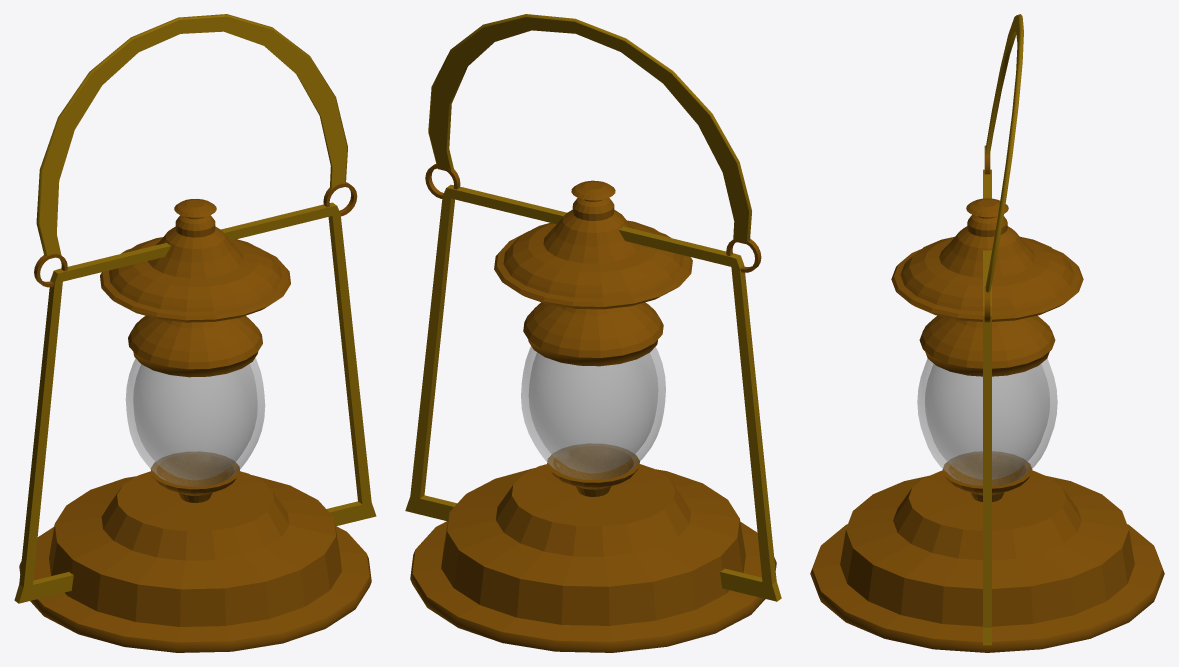
The model's file is Lantern.fbx.
3 renders of one model, left to right at view 1: azimuth 30°, elevation 25°; view 2: azimuth 150°, elevation 25°; view 3: azimuth 270°, elevation 25°, orthographic. The views are drawn at different scales.
Parts seen in each view (by area): view 1: Lantern; view 2: Lantern; view 3: Lantern.
Boxes of the visible parts, x1,y1,x2,y2 form: Lantern: (14, 14, 376, 652); Lantern: (405, 14, 781, 652); Lantern: (810, 14, 1164, 652).
Size of the model in its own units: 5.12 by 7.51 by 4.39.
